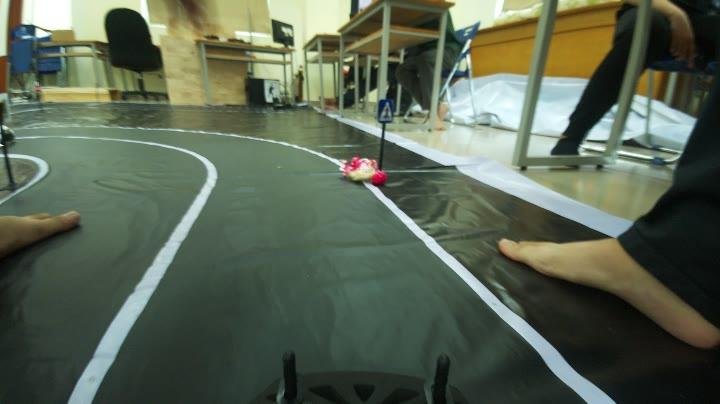crosswalk: (373, 95, 401, 125)
